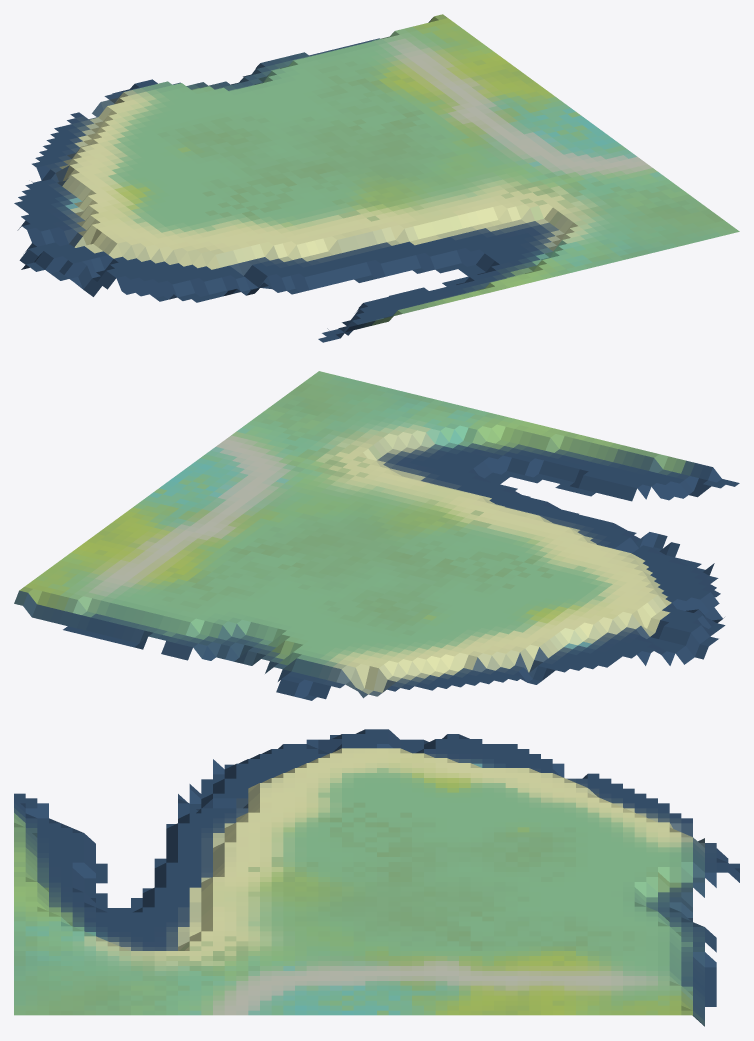
File: test chunk 21.glb
3 views of the same model, one above another, from view 1: azimuth 30°, elevation 25°; view 2: azimuth 150°, elevation 25°; view 3: azimuth 270°, elevation 25° (orthographic). The views are drawn at different scales.
Parts seen in each view (by area): view 1: Chunk 21; view 2: Chunk 21; view 3: Chunk 21.
Part boxes in pixels (bbox=[...]): Chunk 21: bbox=[14, 14, 739, 342]; Chunk 21: bbox=[14, 371, 739, 700]; Chunk 21: bbox=[14, 729, 739, 1026].
Bounding box in the file's own units: 62 × 3 × 62.
1 material, 1 textured.
